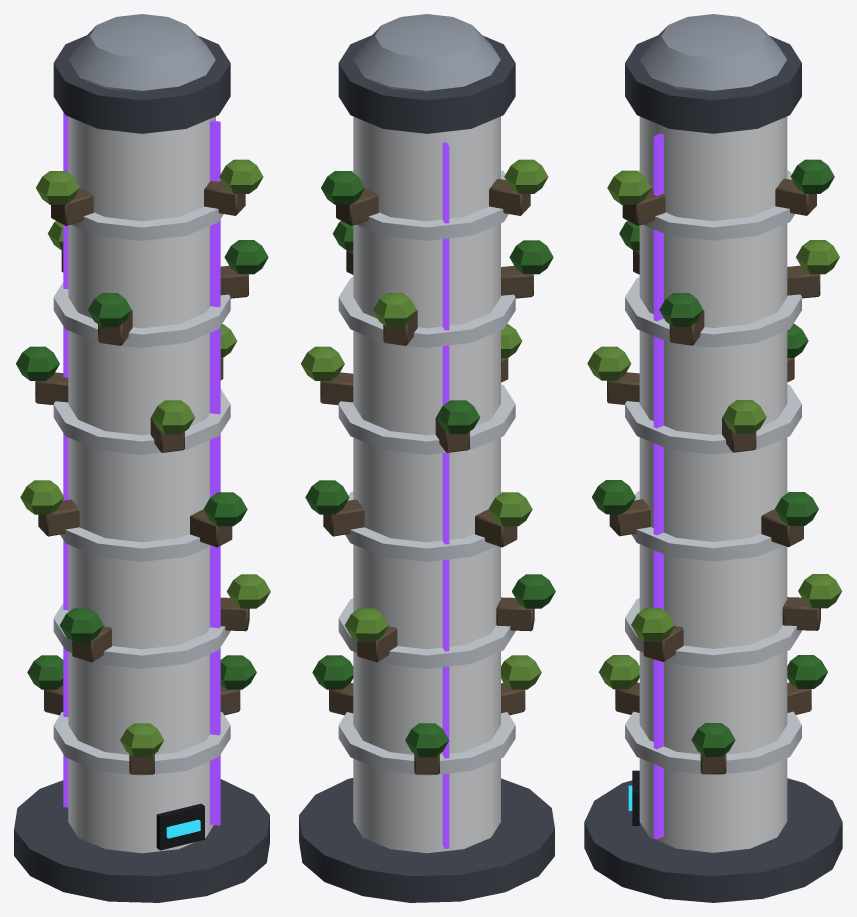
The model's file is planter_vertical_grow_tower.glb.
3 views of the same model, side by side, from view 1: azimuth 30°, elevation 25°; view 2: azimuth 150°, elevation 25°; view 3: azimuth 270°, elevation 25° (orthographic).
Visible parts, largest first — view 1: planter_vertical_grow_tower; view 2: planter_vertical_grow_tower; view 3: planter_vertical_grow_tower.
Boxes of the visible parts, x1,y1,x2,y2 form: planter_vertical_grow_tower: (14, 14, 270, 902); planter_vertical_grow_tower: (299, 14, 555, 902); planter_vertical_grow_tower: (584, 14, 842, 902).
Size of the model in its own units: 0.7 by 2.46 by 0.7.
